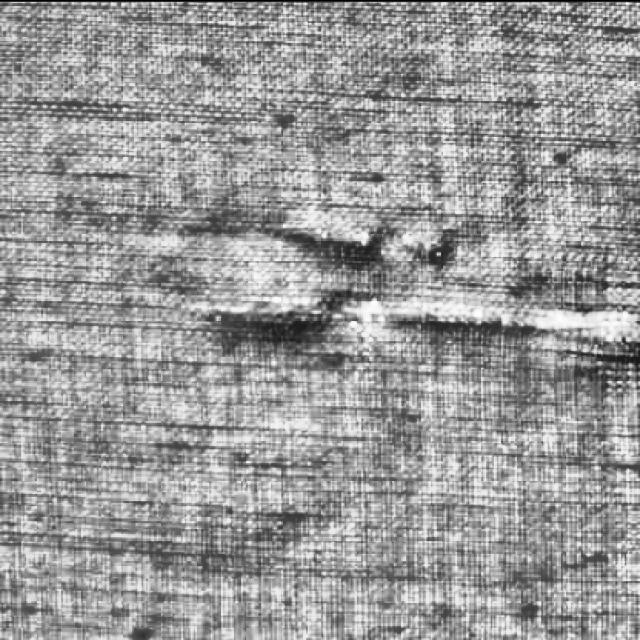thread_error: (178, 269, 640, 358), (138, 203, 523, 270)
